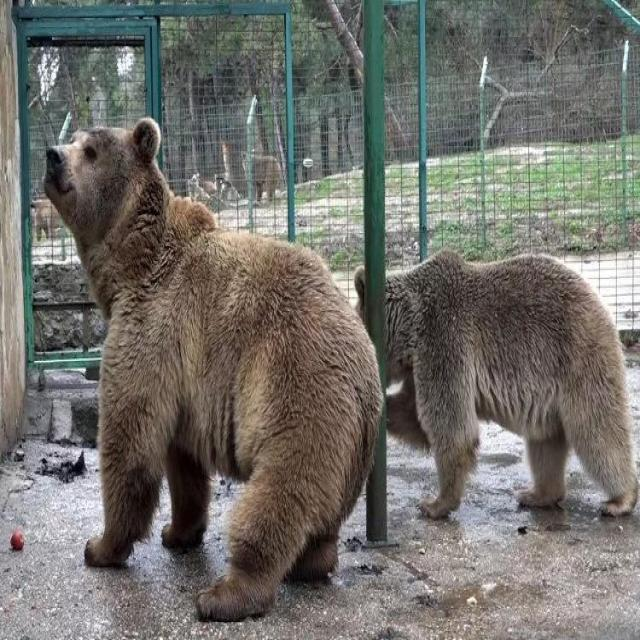Bear: (39, 119, 384, 625), (384, 252, 640, 527)
